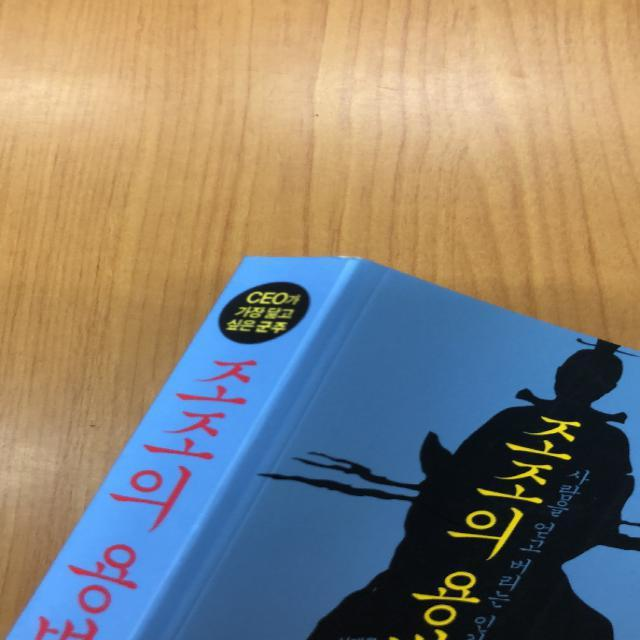Wornout: (323, 247, 381, 271)
